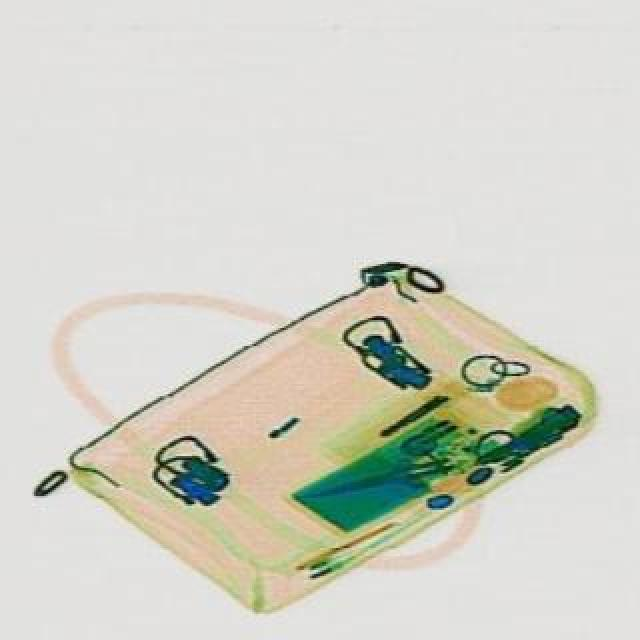knife: (300, 452, 452, 504)
